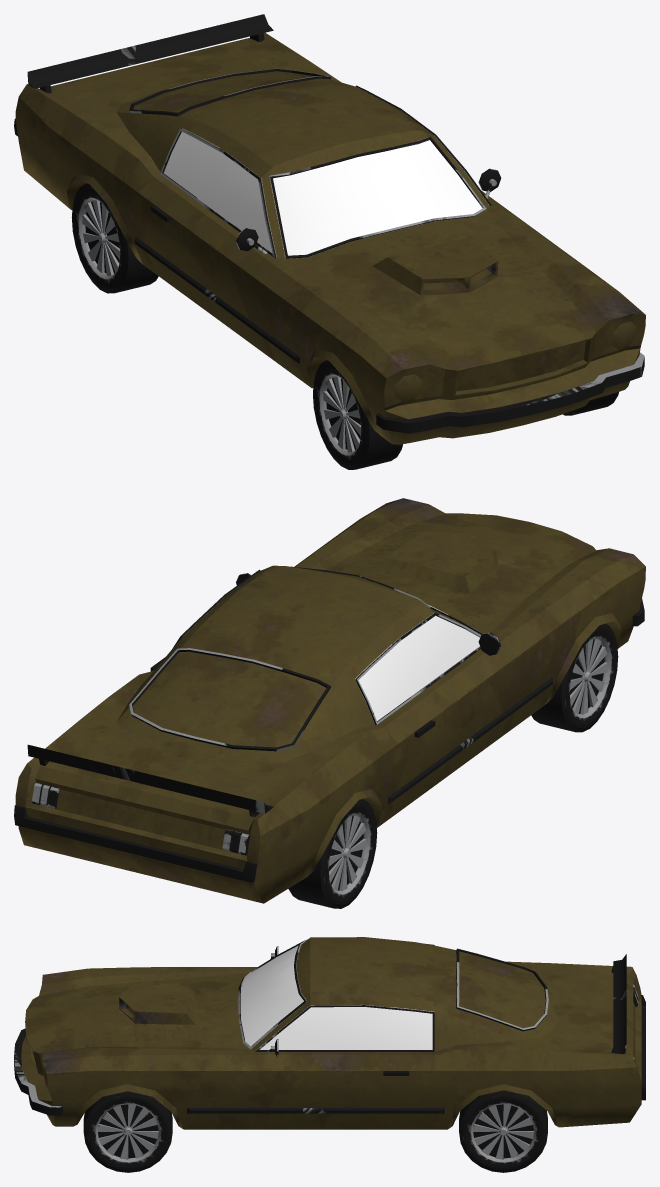
Rendered from car.fbx.
The picture shows the model from 3 angles, top to bottom: view 1: azimuth 30°, elevation 25°; view 2: azimuth 150°, elevation 25°; view 3: azimuth 270°, elevation 25°; orthographic projection. The views are drawn at different scales.
Parts seen in each view (by area): view 1: Brake Lights.002; view 2: Brake Lights.002; view 3: Brake Lights.002.
Boxes of the visible parts, bbox=[...] form: Brake Lights.002: bbox=[14, 14, 645, 469]; Brake Lights.002: bbox=[14, 498, 645, 908]; Brake Lights.002: bbox=[14, 937, 645, 1172].
Size of the model in its own units: 4.92 by 3.62 by 12.73.
